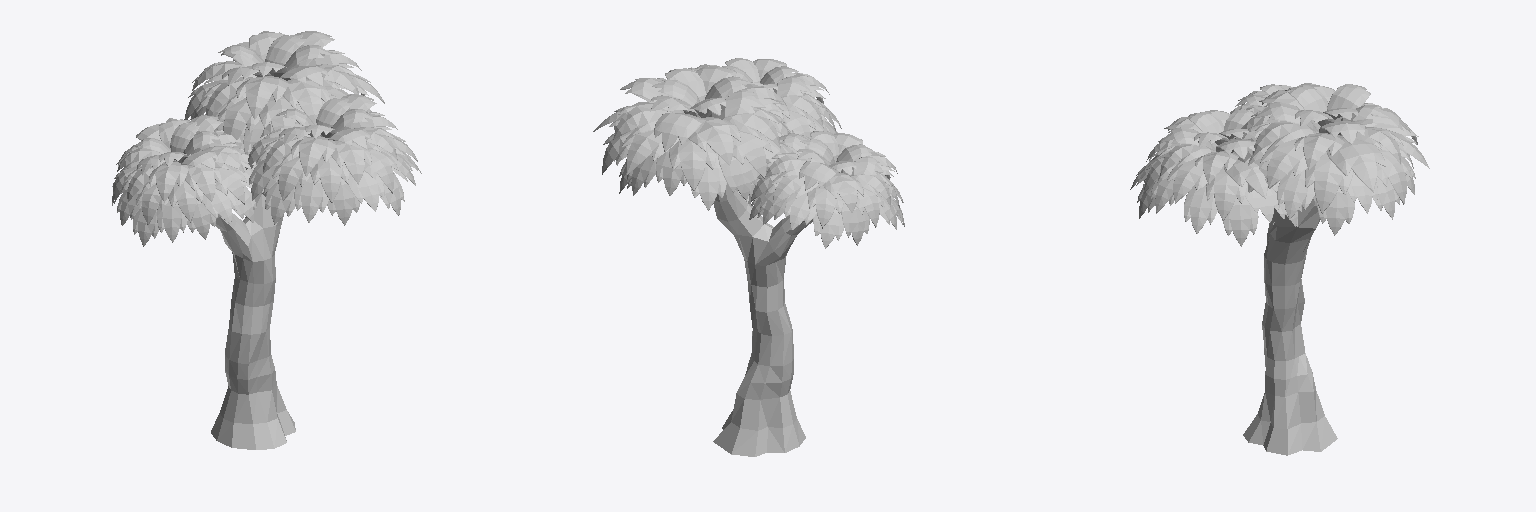
Rendered from tree.obj.
The picture shows the model from 3 angles: view 1: azimuth 30°, elevation 25°; view 2: azimuth 150°, elevation 25°; view 3: azimuth 270°, elevation 25°; orthographic projection.
Parts seen in each view (by area): view 1: objheadusOBJexport, Object01, Object06, Object04, Object05, Object03, Object02; view 2: Object01, objheadusOBJexport, Object04, Object06, Object02, Object03; view 3: Object01, objheadusOBJexport, Object06, Object05, Object02, Object04.
Part boxes in pixels (x1,y1,x2,y2): objheadusOBJexport: (211, 188, 295, 449); Object01: (184, 31, 384, 143); Object06: (245, 94, 417, 202); Object04: (112, 115, 256, 224); Object05: (249, 149, 421, 225); Object03: (112, 165, 263, 246); Object02: (190, 102, 371, 164); Object01: (593, 66, 789, 190); objheadusOBJexport: (713, 183, 812, 456); Object04: (751, 131, 899, 228); Object06: (695, 58, 835, 137); Object02: (614, 123, 793, 210); Object03: (749, 167, 904, 248); Object01: (1238, 84, 1429, 213); objheadusOBJexport: (1243, 199, 1337, 455); Object06: (1144, 110, 1279, 220); Object05: (1130, 153, 1315, 246); Object02: (1248, 153, 1415, 235); Object04: (1230, 83, 1315, 113).
Size of the model in its own units: 115 by 149 by 113.